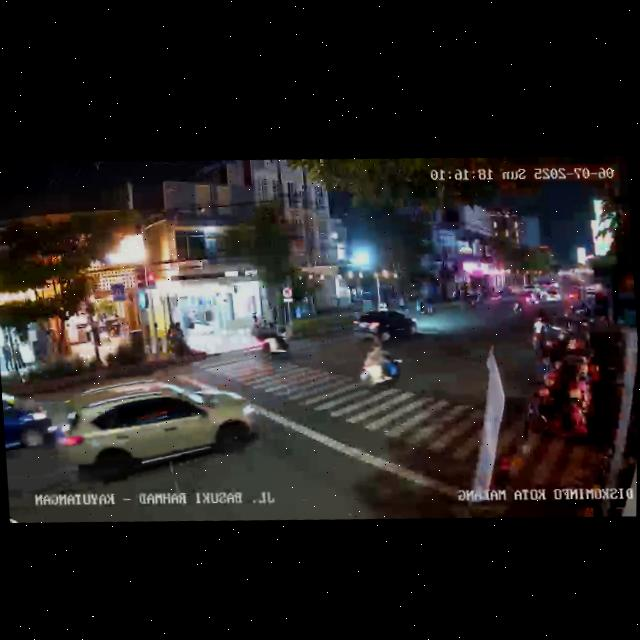car: (54, 368, 264, 498), (2, 387, 59, 465), (350, 305, 417, 348)
motorcycle: (355, 334, 405, 395), (247, 315, 292, 362), (528, 314, 550, 353), (511, 296, 524, 318)
person: (92, 324, 104, 359), (1, 340, 13, 372), (14, 345, 25, 372)
